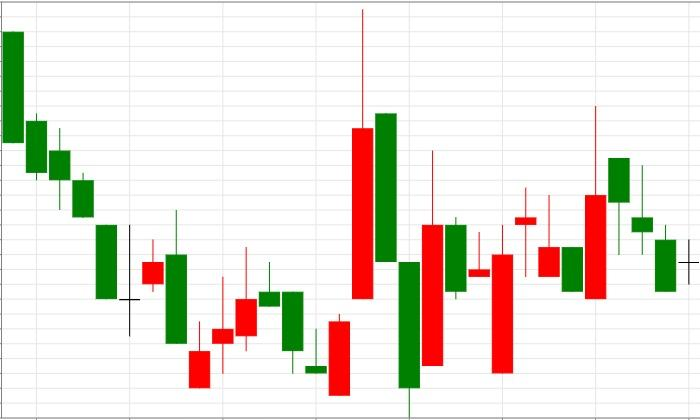bullish_engulfing_rise: (2, 31, 188, 344), (516, 106, 607, 300), (259, 261, 351, 396)
three_black_crows_fall: (561, 105, 676, 300)
